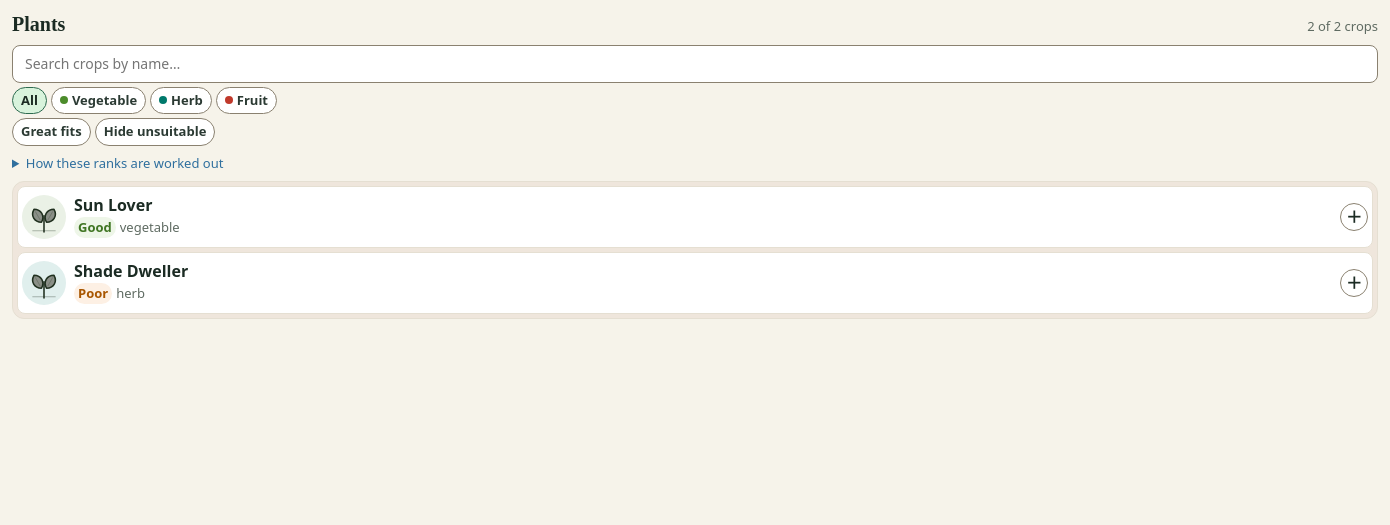
PlantPalette › keeps at most one crop’s reasoning open at a time
Step 1. Click the button with aria-label "drag sun lover onto the plot to place it" → click(101, 216), box [22, 194, 180, 239]
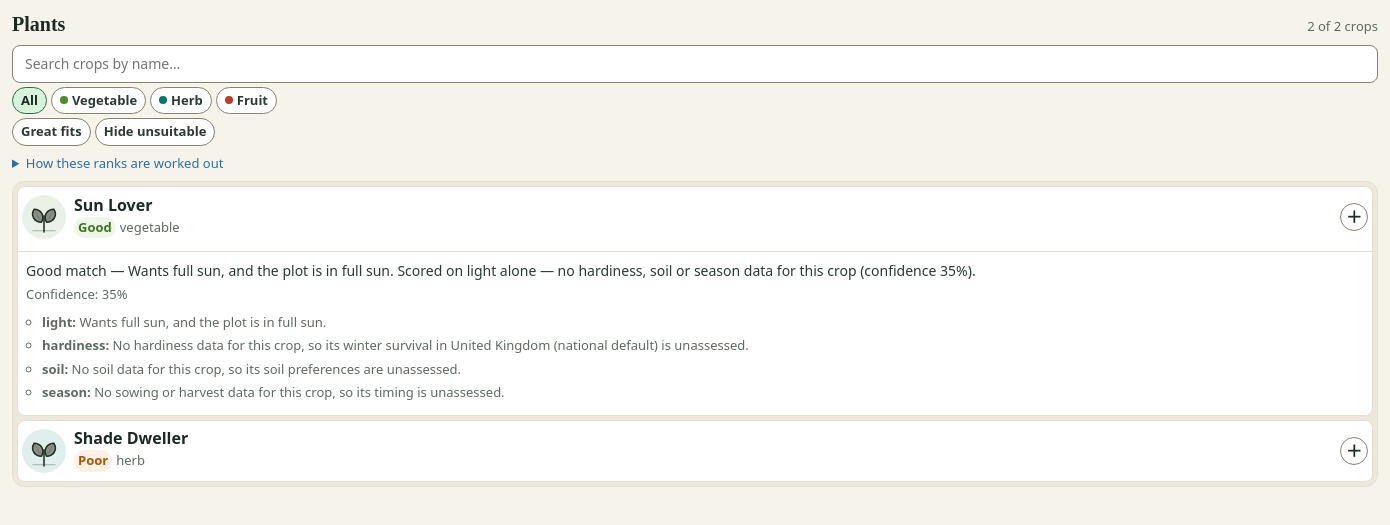
Step 2. Click the button with aria-label "drag shade dweller onto the plot to place it" → click(105, 450), box [22, 427, 188, 473]
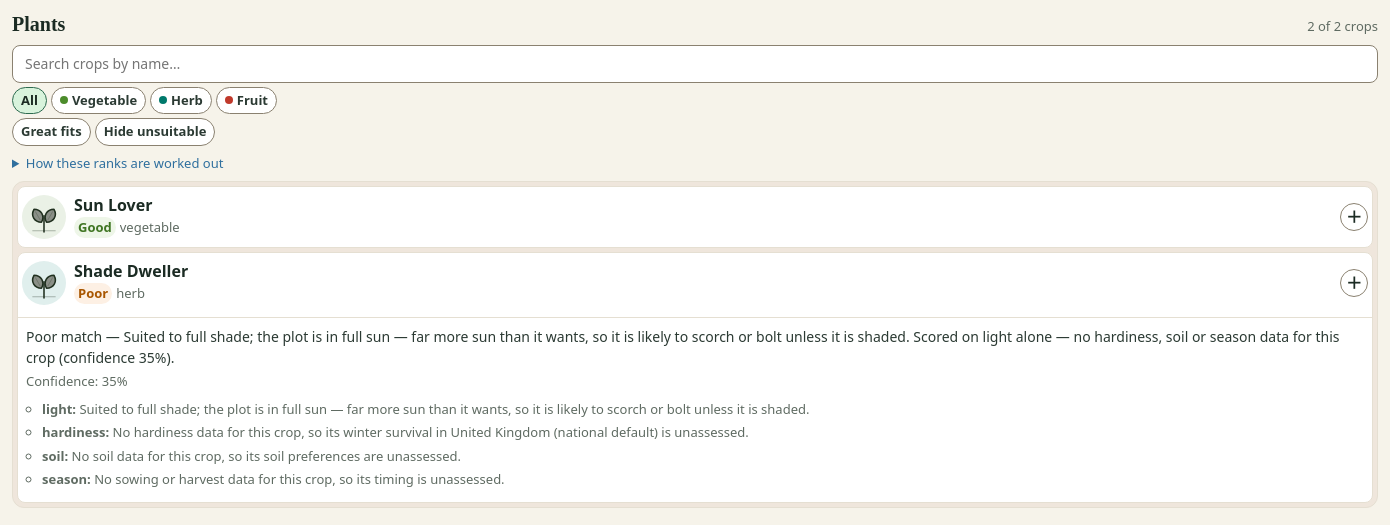
Expected: the button with aria-label "drag shade dweller onto the plot to place it" is expanded, [22, 260, 188, 305]
